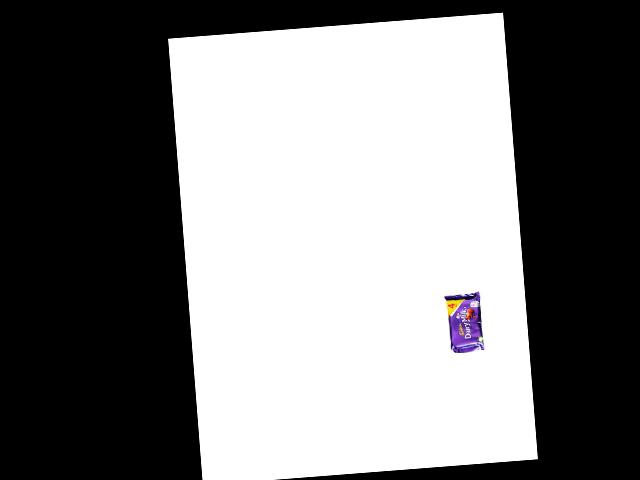chocolate: (444, 284, 489, 355)
